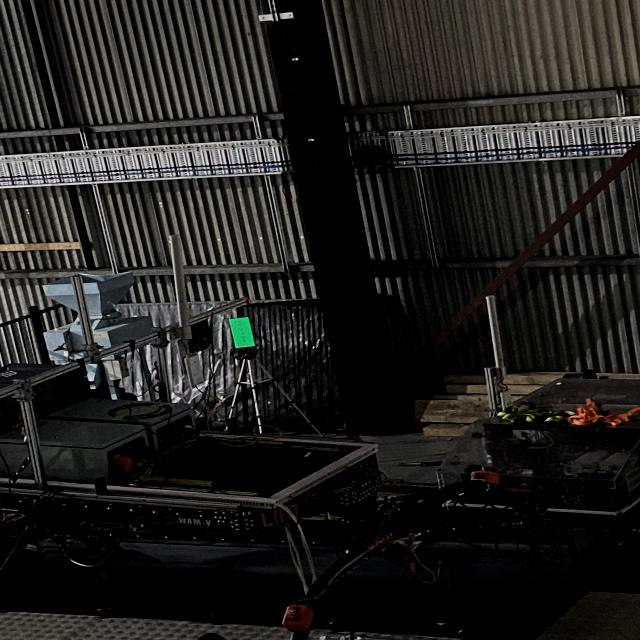matrix: (222, 314, 258, 353)
